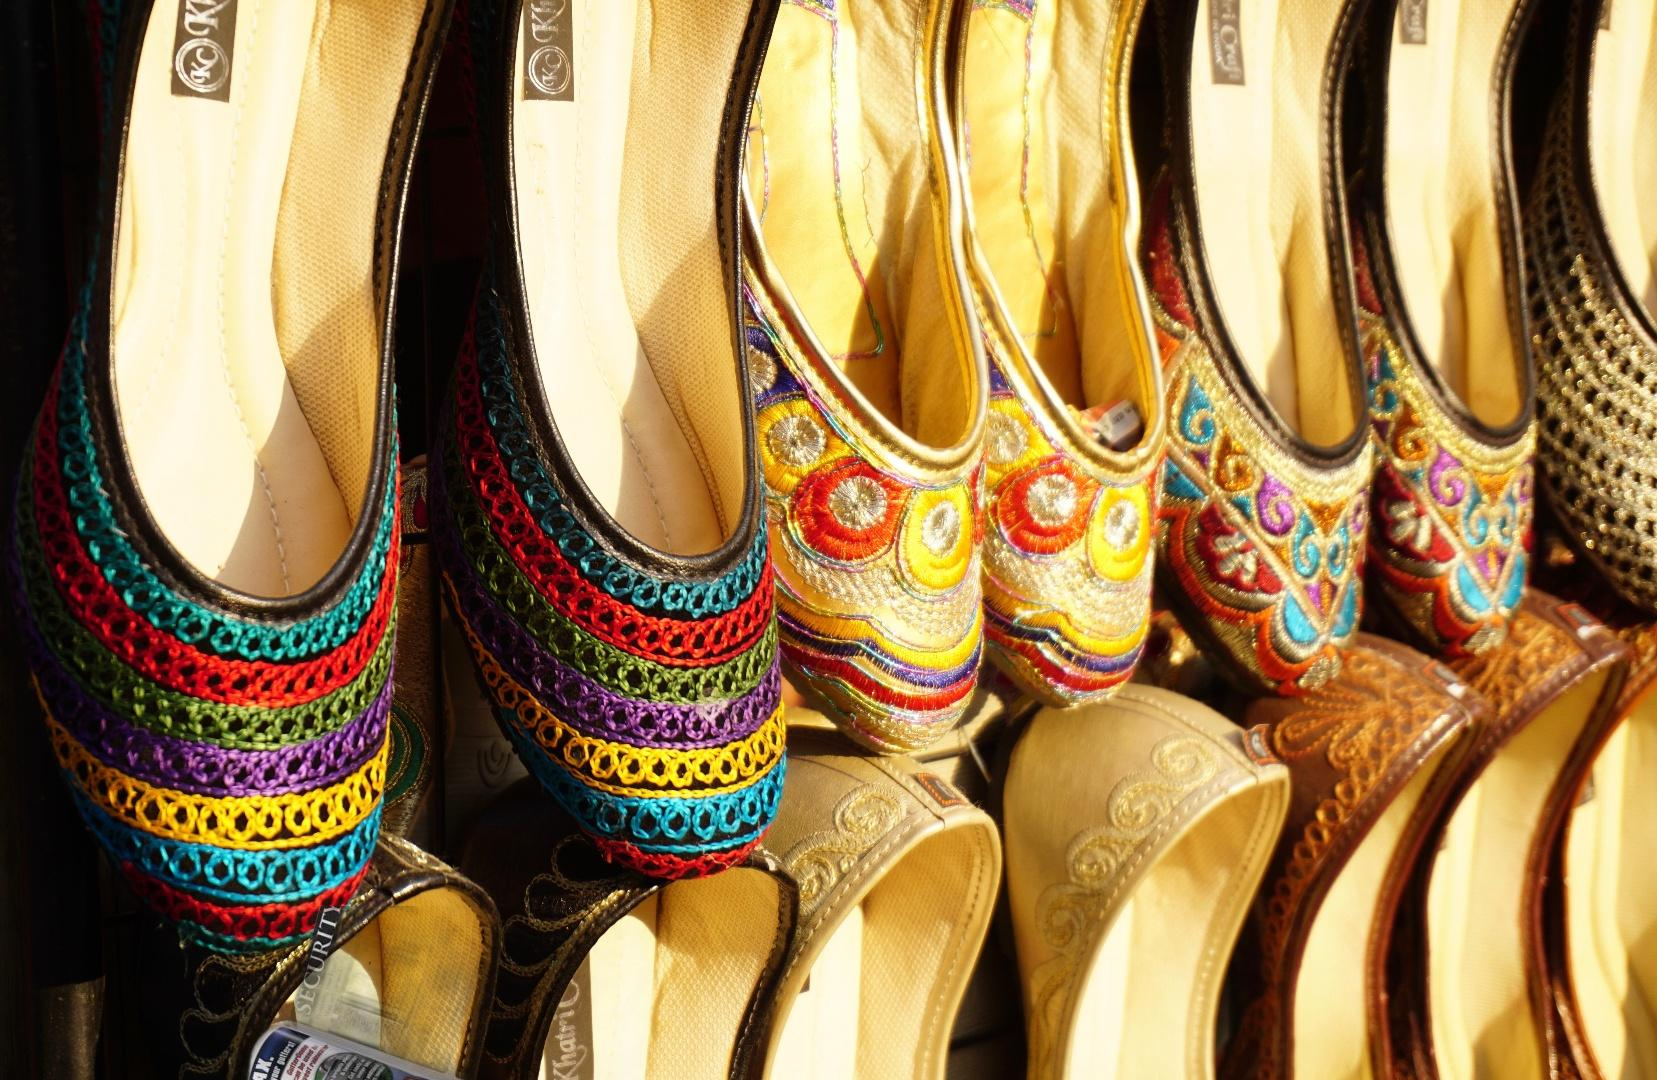paper: (242, 906, 754, 1080)
penholder: (1626, 992, 1657, 1080)
